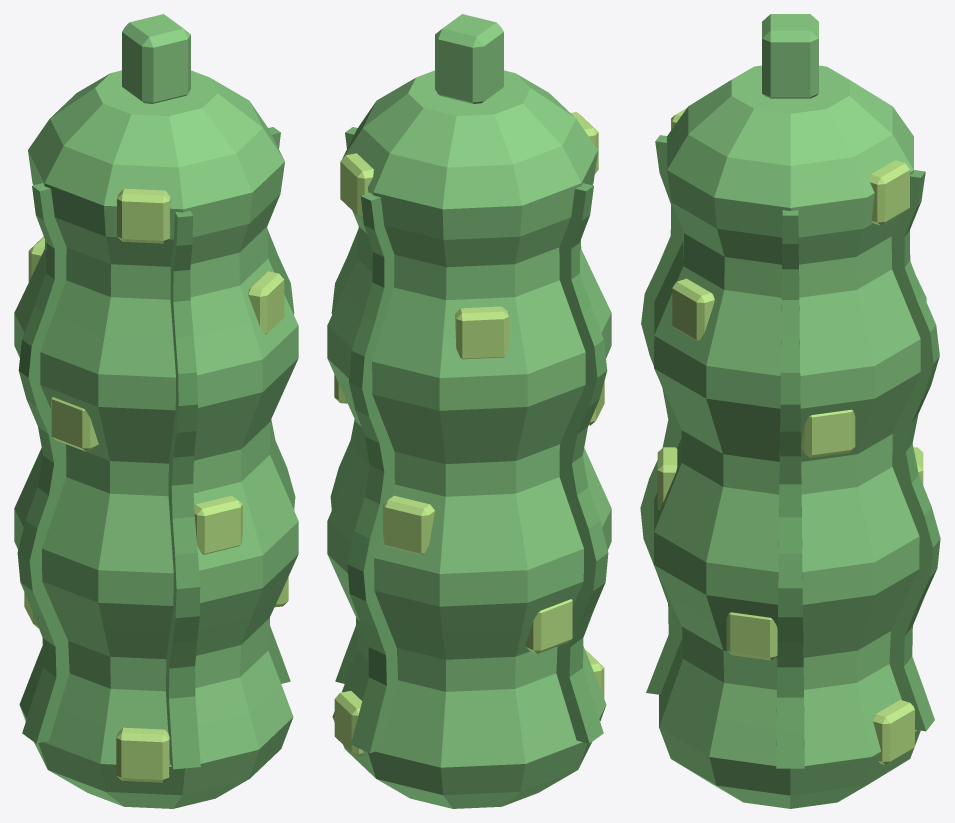
Rendered from UnderwaterSeaweedCucumber.fbx.
3 renders of one model, left to right at view 1: azimuth 30°, elevation 25°; view 2: azimuth 150°, elevation 25°; view 3: azimuth 270°, elevation 25°, orthographic.
Visible parts, largest first — view 1: UnderwaterSeaweedCucumber.Body, UnderwaterSeaweedCucumber.Fins, UnderwaterSeaweedCucumber.Studs; view 2: UnderwaterSeaweedCucumber.Body, UnderwaterSeaweedCucumber.Fins, UnderwaterSeaweedCucumber.Studs; view 3: UnderwaterSeaweedCucumber.Body, UnderwaterSeaweedCucumber.Fins, UnderwaterSeaweedCucumber.Studs.
Boxes of the visible parts, x1,y1,x2,y2 form: UnderwaterSeaweedCucumber.Body: [14, 14, 298, 808]; UnderwaterSeaweedCucumber.Fins: [17, 127, 295, 769]; UnderwaterSeaweedCucumber.Studs: [24, 188, 288, 782]; UnderwaterSeaweedCucumber.Body: [327, 14, 611, 808]; UnderwaterSeaweedCucumber.Fins: [330, 127, 608, 753]; UnderwaterSeaweedCucumber.Studs: [334, 112, 604, 756]; UnderwaterSeaweedCucumber.Body: [654, 14, 926, 808]; UnderwaterSeaweedCucumber.Fins: [640, 135, 940, 768]; UnderwaterSeaweedCucumber.Studs: [657, 108, 923, 764].
Size of the model in its own units: 1.62 by 4.38 by 1.58.
